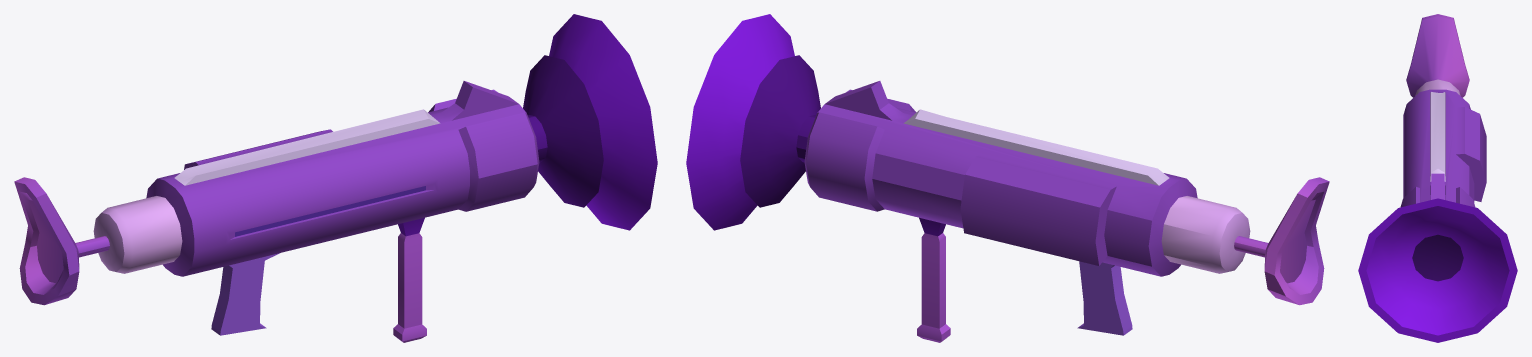
Rendered from BUNKER BOMB (2).fbx.
3 renders of one model, left to right at view 1: azimuth 30°, elevation 25°; view 2: azimuth 150°, elevation 25°; view 3: azimuth 270°, elevation 25°, orthographic. The views are drawn at different scales.
Parts seen in each view (by area): view 1: Cylinder.010; view 2: Cylinder.010; view 3: Cylinder.010.
Part boxes in pixels (box(x1,y1,x2,y2)): Cylinder.010: box(14, 14, 657, 342); Cylinder.010: box(686, 14, 1329, 342); Cylinder.010: box(1358, 14, 1517, 342).
Bounding box in the file's own units: 104 × 46.83 × 34.99.
1 material, 1 textured.
